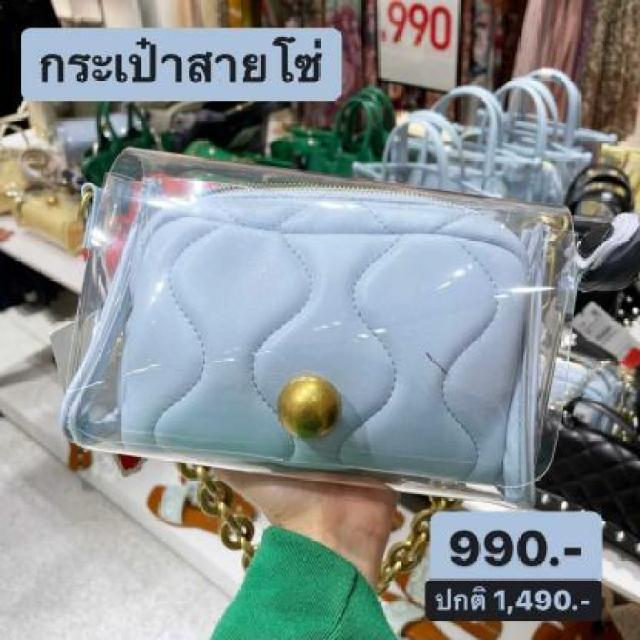Bag: (60, 111, 577, 555)
